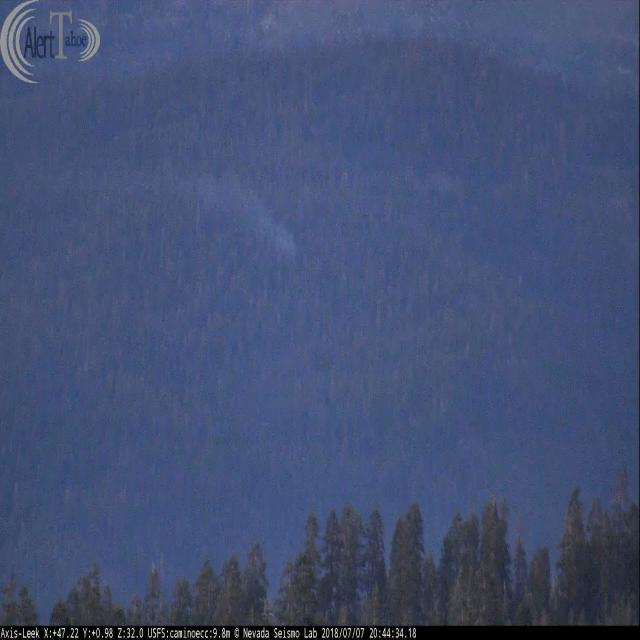smoke: (261, 205, 298, 262)
